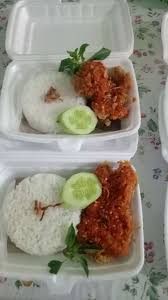ayam_geprek: (50, 54, 151, 132), (77, 164, 145, 257)
